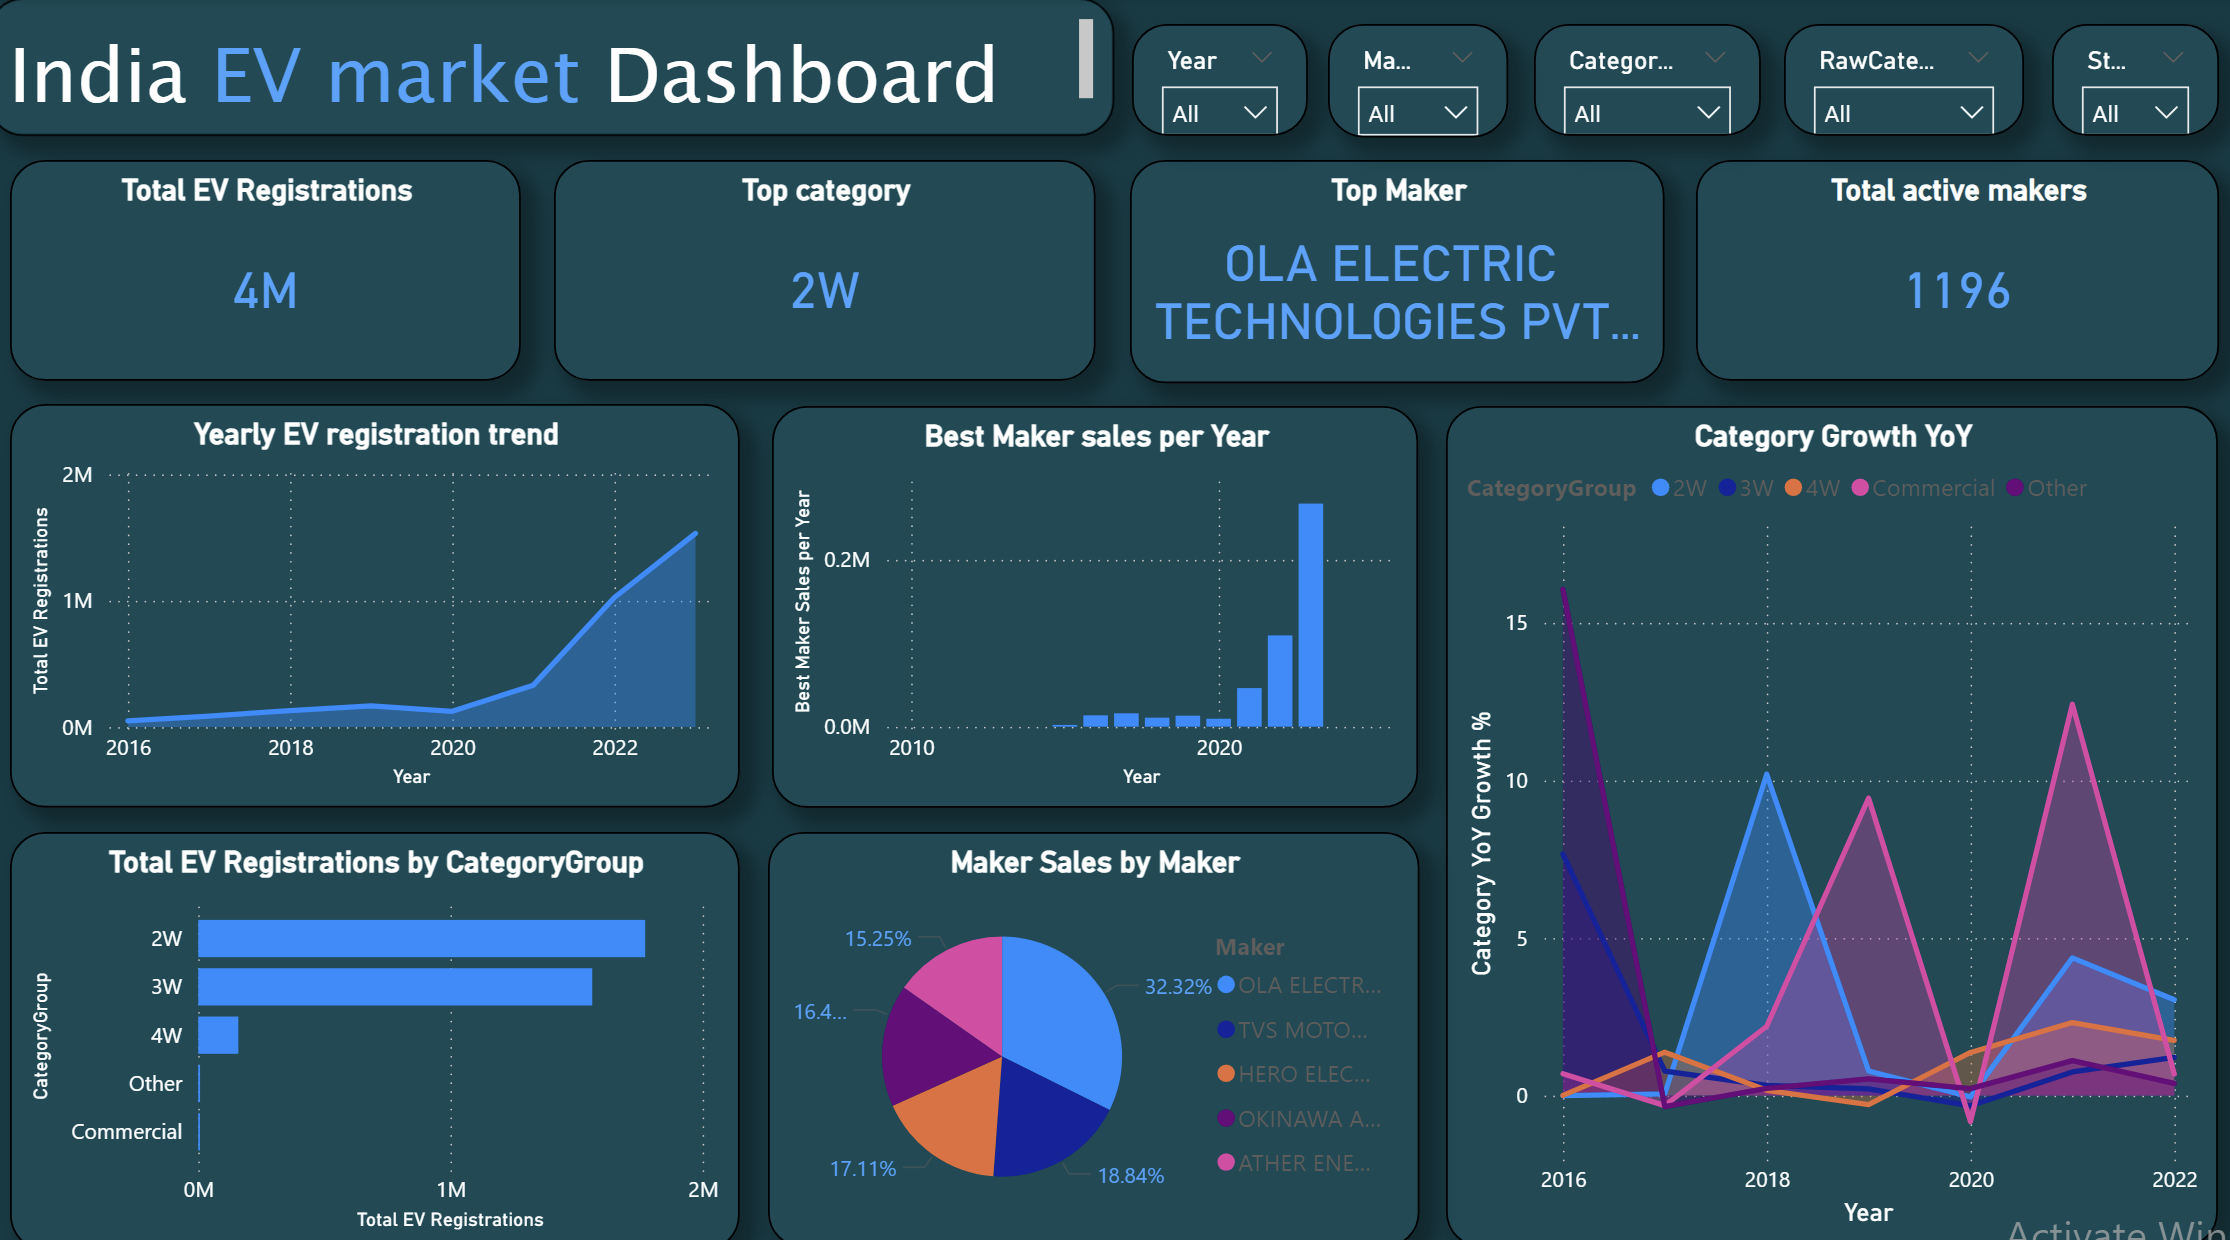

The page's visual inventory and layout, read from the dashboard file:
{"tool":"powerbi","page":{"name":"Page 1","canvas":[1280,720],"ordinal":0},"visuals":[{"type":"textbox","box":[0,0,640.5,78.5],"z":0},{"type":"card","title":"Total EV Registrations","fields":{"Values":["Sum(Fact_Category.Registrations)"]},"box":[12.2,91.9,290.5,125.7],"z":1000},{"type":"card","title":"Top category","fields":{"Values":["Fact_Category.Top Category"]},"box":[321.6,91.9,308.1,125.7],"z":2000},{"type":"card","title":"Total active makers","fields":{"Values":["CategoryMap.Total Active Manufacturers"]},"box":[971.6,91.9,297.3,125.7],"z":3000},{"type":"card","title":"Top Maker","fields":{"Values":["CategoryMap.Top Maker"]},"box":[650,91.9,304.1,127],"z":4000},{"type":"stackedAreaChart","title":"Yearly EV registration trend","fields":{"Category":["Fact_Category.Year"],"Y":["CategoryMap.Total EV Registrations"]},"box":[12.2,231.1,414.9,229.7],"z":5000},{"type":"barChart","fields":{"Category":["CategoryMap.CategoryGroup"],"Y":["CategoryMap.Total EV Registrations"]},"box":[12.2,474.3,414.9,237.8],"z":6000},{"type":"areaChart","title":"Category Growth YoY ","fields":{"Category":["Fact_Category.Year"],"Series":["CategoryMap.CategoryGroup"],"Y":["CategoryMap.Category YoY Growth %"]},"box":[829.7,232.4,439.2,478.4],"z":7000},{"type":"clusteredColumnChart","title":"Best Maker per Year","fields":{"Category":["Fact_MakerSales.Year"],"Y":["Fact_MakerSales.Best Maker Sales per Year"]},"box":[445.9,232.4,367.6,228.4],"z":8000},{"type":"pieChart","fields":{"Category":["Fact_MakerSales.Maker"],"Y":["Fact_MakerSales.Maker Sales"]},"box":[443.2,474.3,370.3,236.5],"z":9000},{"type":"slicer","fields":{"Values":["Fact_Category.Year"]},"box":[650.6,15.2,100,63.3],"z":10000},{"type":"slicer","fields":{"Values":["CategoryMap.CategoryGroup"]},"box":[879.7,15.2,129.1,63.3],"z":11000},{"type":"slicer","fields":{"Values":["Fact_Category.RawCategory"]},"box":[1021.5,15.2,136.7,63.3],"z":12000},{"type":"slicer","fields":{"Values":["Fact_MakerSales.Maker"]},"box":[762,15.2,102.5,64.6],"z":13000},{"type":"slicer","fields":{"Values":["Dim_MakerLocation.State"]},"box":[1173.4,15.2,94.9,63.3],"z":14000}]}

Visuals, with their boxes in screenshot pixels (x1, y1, x2, y2), scaled from the page's 1280x720 canvas onto the 2230x1240 screenshot:
textbox: {"x1": 0, "y1": 0, "x2": 1116, "y2": 135}
"Total EV Registrations" card: {"x1": 21, "y1": 158, "x2": 527, "y2": 375}
"Top category" card: {"x1": 560, "y1": 158, "x2": 1097, "y2": 375}
"Total active makers" card: {"x1": 1693, "y1": 158, "x2": 2211, "y2": 375}
"Top Maker" card: {"x1": 1132, "y1": 158, "x2": 1662, "y2": 377}
"Yearly EV registration trend" stackedAreaChart: {"x1": 21, "y1": 398, "x2": 744, "y2": 794}
barChart - CategoryMap.CategoryGroup x CategoryMap.Total EV Registrations: {"x1": 21, "y1": 817, "x2": 744, "y2": 1226}
"Category Growth YoY " areaChart: {"x1": 1445, "y1": 400, "x2": 2211, "y2": 1224}
"Best Maker per Year" clusteredColumnChart: {"x1": 777, "y1": 400, "x2": 1417, "y2": 794}
pieChart - Fact_MakerSales.Maker x Fact_MakerSales.Maker Sales: {"x1": 772, "y1": 817, "x2": 1417, "y2": 1224}
slicer - Fact_Category.Year: {"x1": 1133, "y1": 26, "x2": 1308, "y2": 135}
slicer - CategoryMap.CategoryGroup: {"x1": 1533, "y1": 26, "x2": 1758, "y2": 135}
slicer - Fact_Category.RawCategory: {"x1": 1780, "y1": 26, "x2": 2018, "y2": 135}
slicer - Fact_MakerSales.Maker: {"x1": 1328, "y1": 26, "x2": 1506, "y2": 137}
slicer - Dim_MakerLocation.State: {"x1": 2044, "y1": 26, "x2": 2210, "y2": 135}
